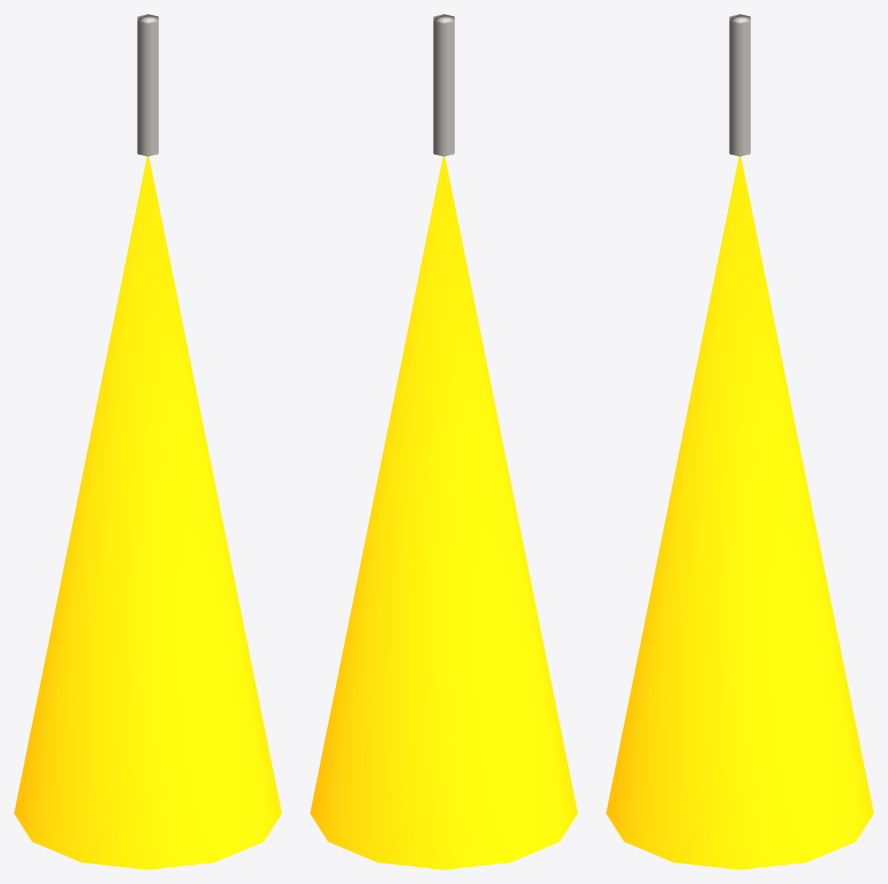
File: Mark_Torpedo.glb
3 views of the same model, side by side, from view 1: azimuth 30°, elevation 25°; view 2: azimuth 150°, elevation 25°; view 3: azimuth 270°, elevation 25° (orthographic).
Visible parts, largest first — view 1: body, pole; view 2: body, pole; view 3: body, pole.
Part boxes in pixels (<box>): body: <box>14,156,281,869</box>; pole: <box>137,14,158,156</box>; body: <box>310,156,577,869</box>; pole: <box>433,14,454,156</box>; body: <box>606,156,873,869</box>; pole: <box>729,14,750,156</box>.
Size of the model in its own units: 1.1 by 3.6 by 1.1.
